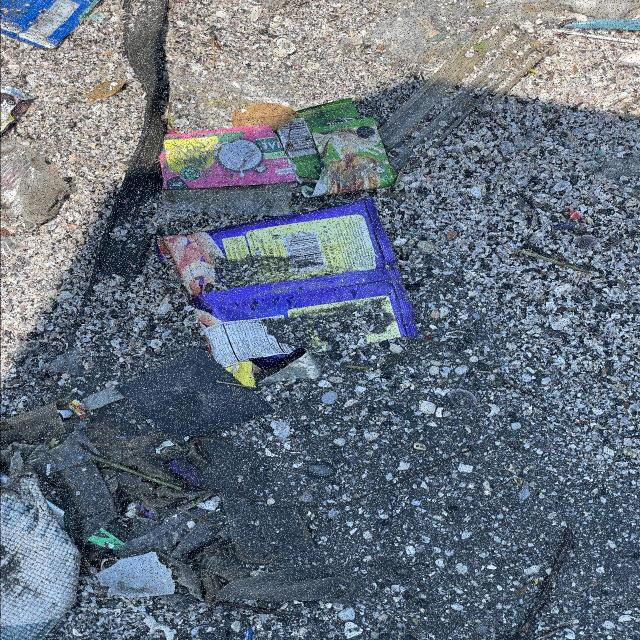plastic_waste: (153, 198, 421, 390), (273, 99, 397, 200), (159, 125, 299, 191), (1, 142, 69, 226), (1, 1, 101, 51), (1, 84, 39, 136)
